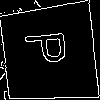P: (24, 28, 77, 67)
